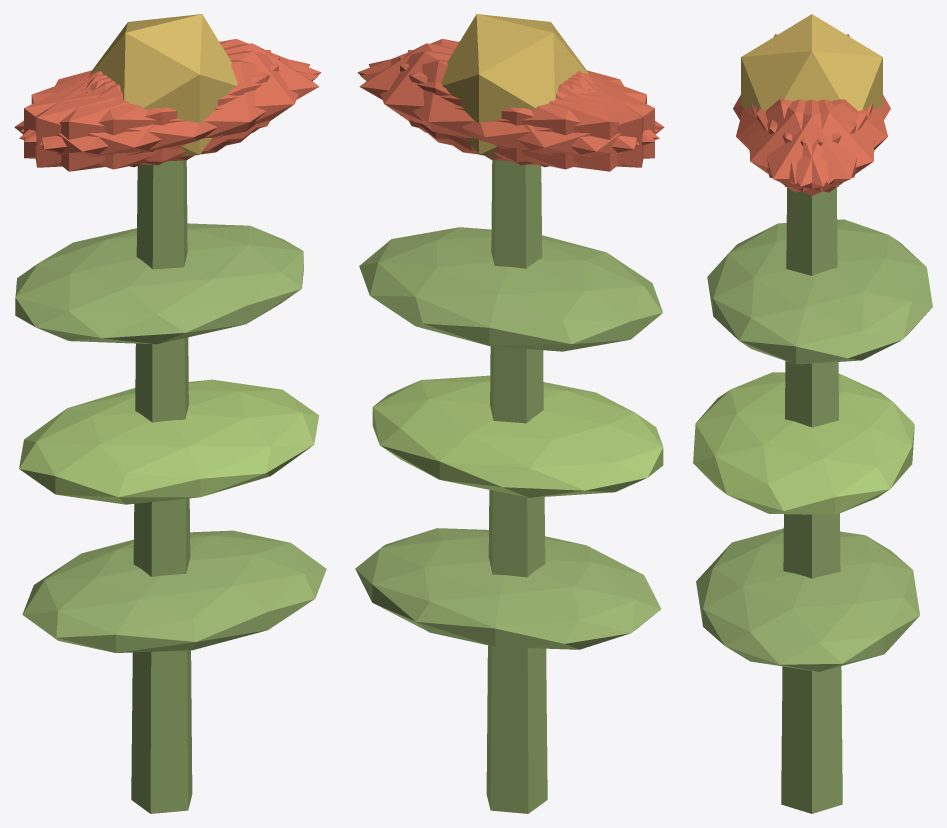
The model's file is cynometra-ramiflora.glb.
3 views of the same model, side by side, from view 1: azimuth 30°, elevation 25°; view 2: azimuth 150°, elevation 25°; view 3: azimuth 270°, elevation 25° (orthographic).
Visible parts, largest first — view 1: leaf1, leaf0, leaf2, stem, center, petal1, petal6, petal2, petal5, petal7, petal0, petal4 (+2 smaller); view 2: leaf2, leaf0, leaf1, stem, center, petal8, petal3, petal7, petal4, petal2, petal0, petal5 (+2 smaller); view 3: leaf2, leaf0, leaf1, stem, center, petal0, petal5, petal4, petal1, petal8.
Part boxes in pixels (x1,y1,x2,y2): leaf1: (19,379,319,504); leaf0: (22,530,326,652); leaf2: (15,223,303,344); stem: (131,160,192,813); center: (90,14,237,157); petal1: (19,59,318,169); petal6: (14,73,231,171); petal2: (35,50,271,167); petal5: (39,51,310,161); petal7: (24,56,279,165); petal0: (89,43,319,151); petal4: (20,39,321,142); leaf2: (359,227,662,351); leaf0: (355,528,661,649); leaf1: (372,375,663,497); stem: (486,160,547,813); center: (441,14,588,157); petal8: (360,59,659,169); petal3: (447,73,664,171); petal7: (407,50,643,167); petal4: (368,51,639,161); petal2: (399,56,654,165); petal0: (359,43,588,151); petal5: (357,39,658,142); leaf2: (707,219,932,364); leaf0: (696,528,919,671); leaf1: (693,372,914,515); stem: (781,187,842,813); center: (741,14,882,110); petal0: (751,99,872,195); petal5: (749,99,867,192); petal4: (756,99,874,192); petal1: (736,99,856,183); petal8: (767,99,887,183).
Size of the model in its own units: 0.1452 by 0.3661 by 0.1037.
